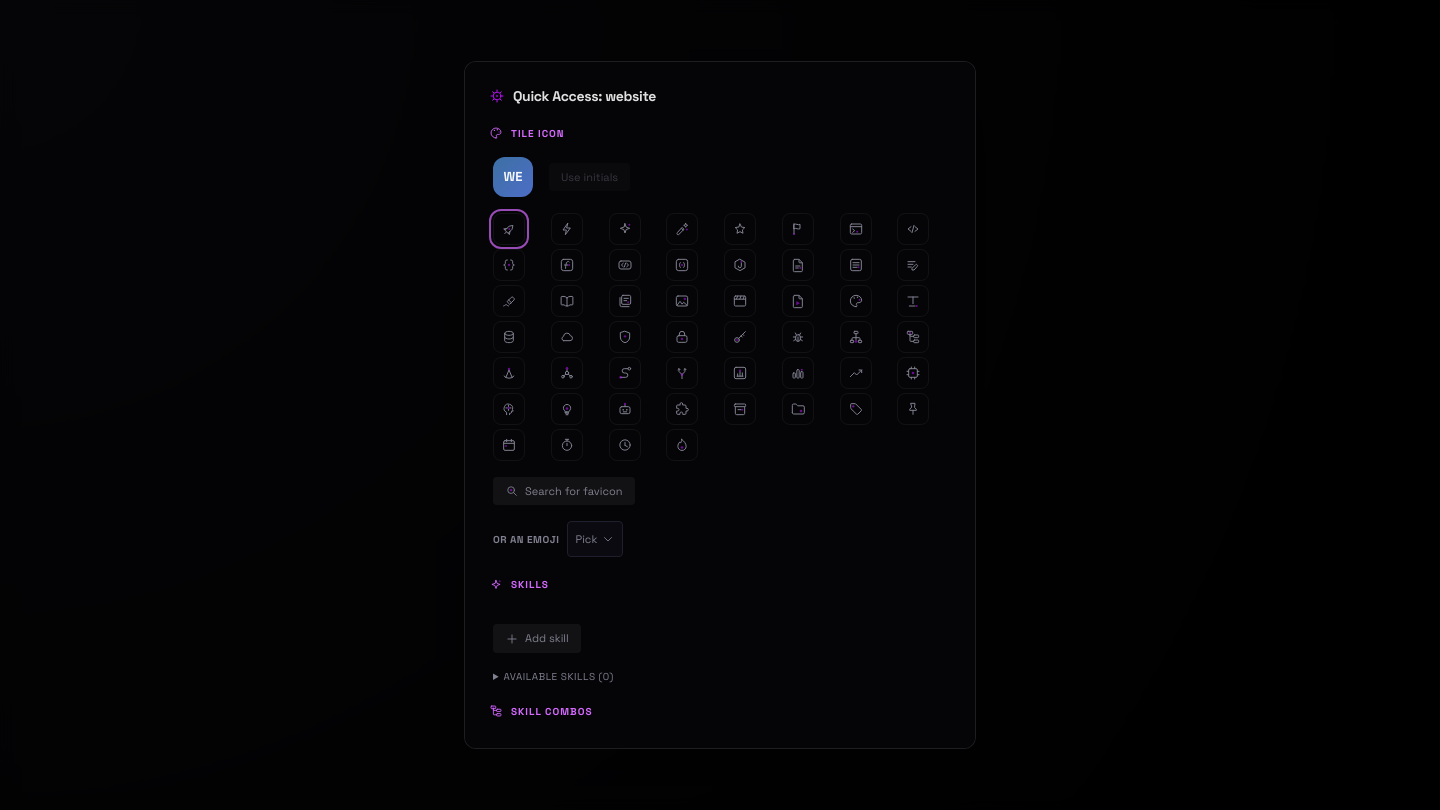
Scenario: QuickAccessSettingsDialog › asks before discarding unsaved edits
Click the radio button named "rocket launch" at (509, 229), box [493,213,525,245]
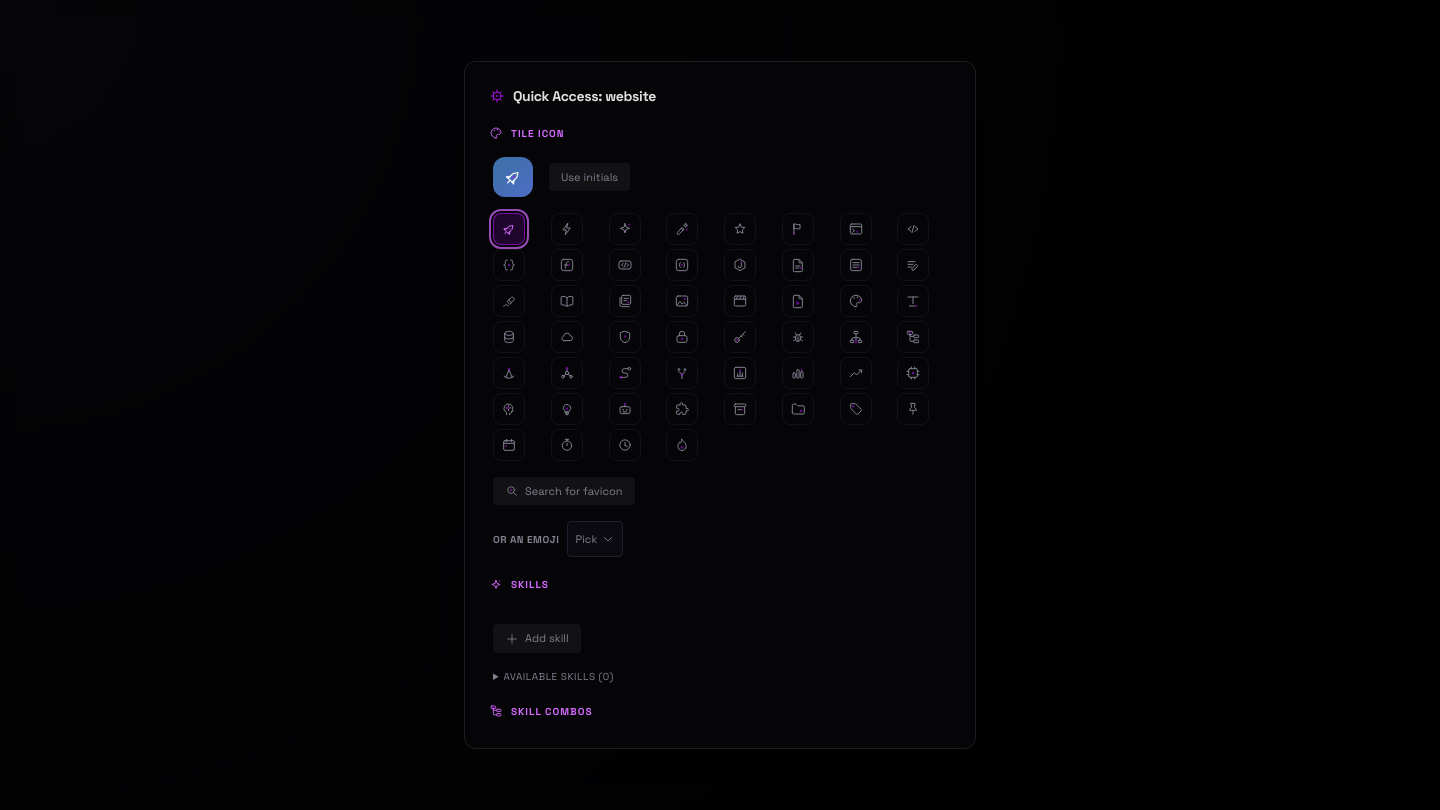
Press Escape in the dialog, box [464,61,976,749]
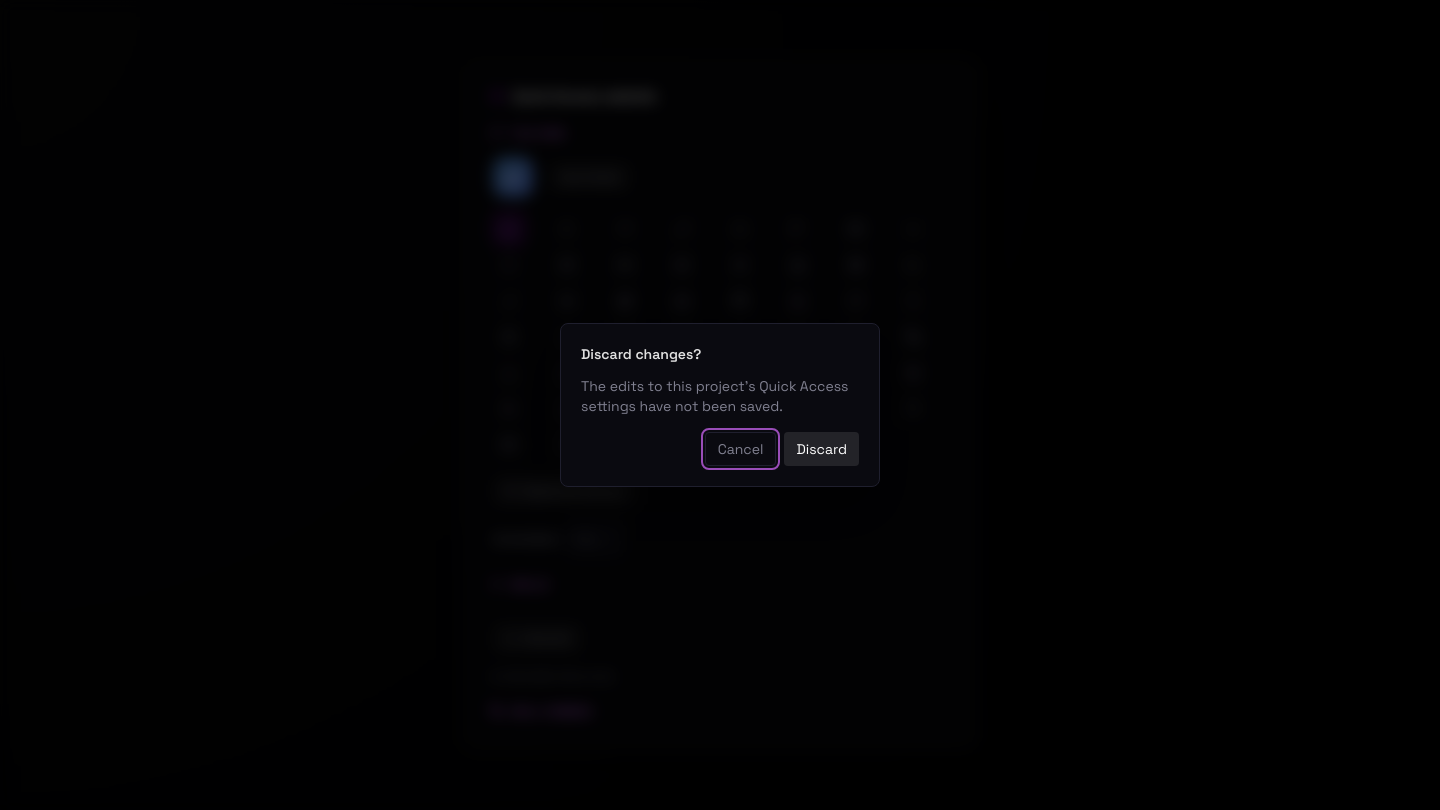
Check: the heading "Discard changes?" is shown, box [581,345,702,363]
